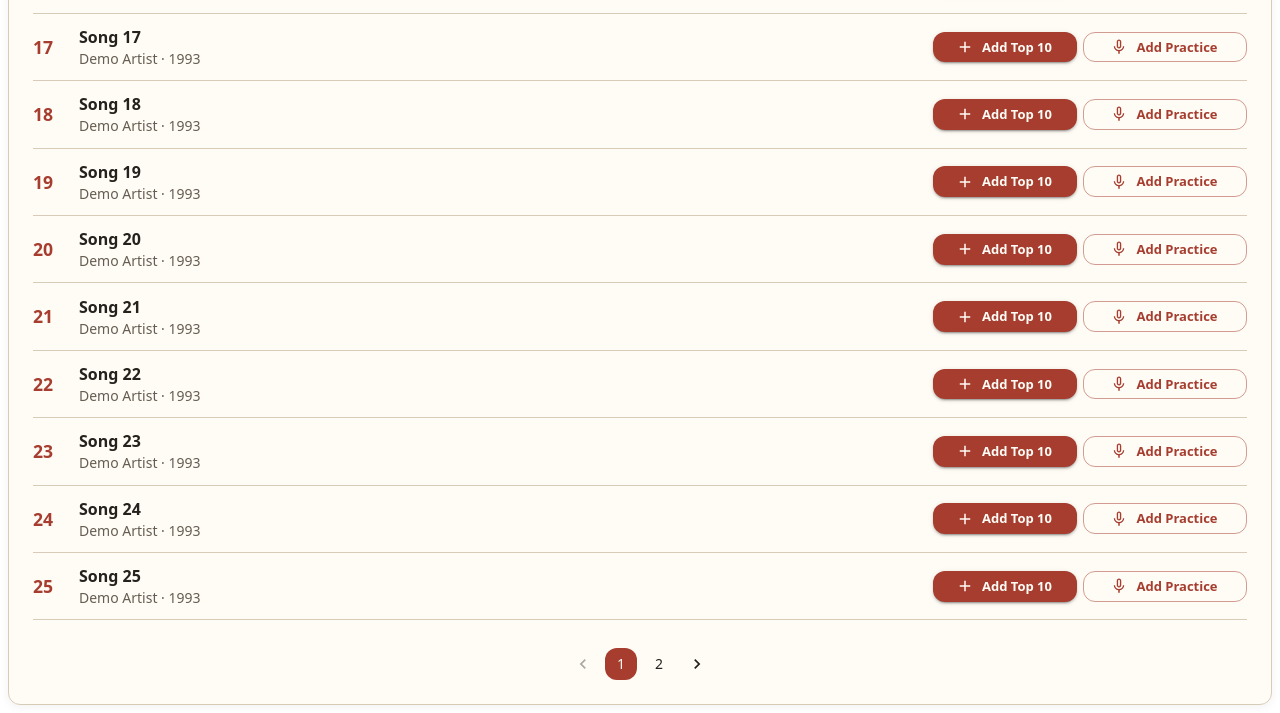
it: shows 25 ranking entries per URL-controlled page
This screenshot has width=1280, height=713.
(page scrolled)
Expected: the text "Song 25" is shown, [79,565,141,587]
Expected: the text "Song 26" is not shown
Click the button named "Go to page 2" at (659, 664), box [643,648,675,680]
(page scrolled)
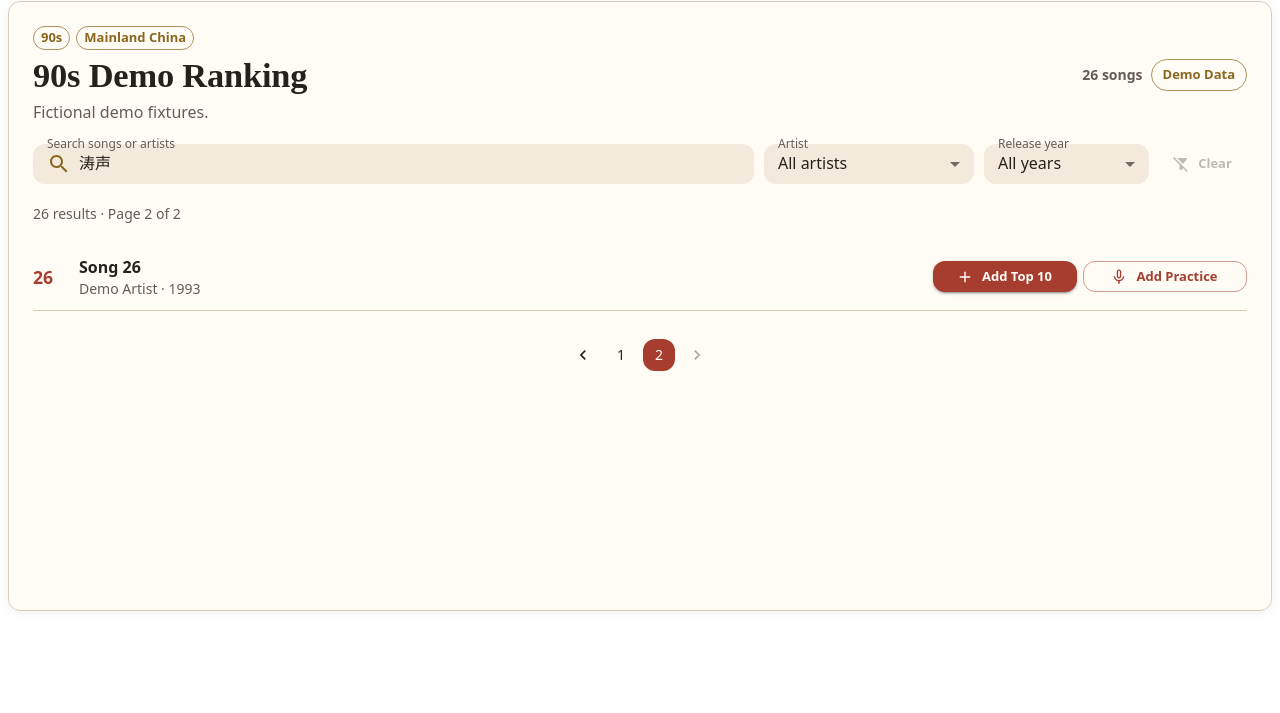
Expected: the text "Song 26" is shown, [79,256,141,278]
Expected: the text "26 results · Page 2 of 2" is shown, [33,204,181,223]
